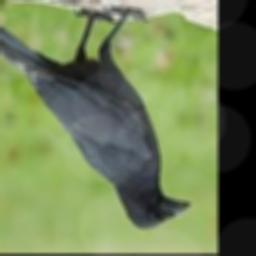Crow: (0, 6, 189, 230)
